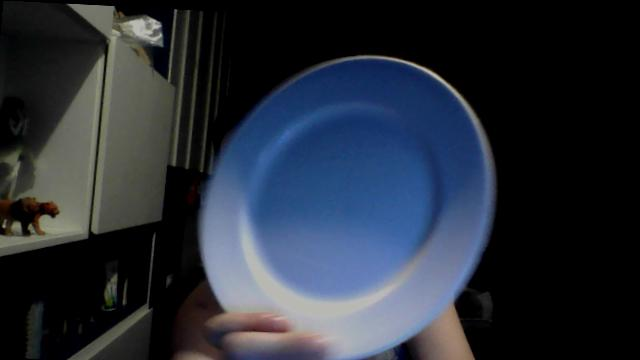Plate: (198, 56, 494, 359)
